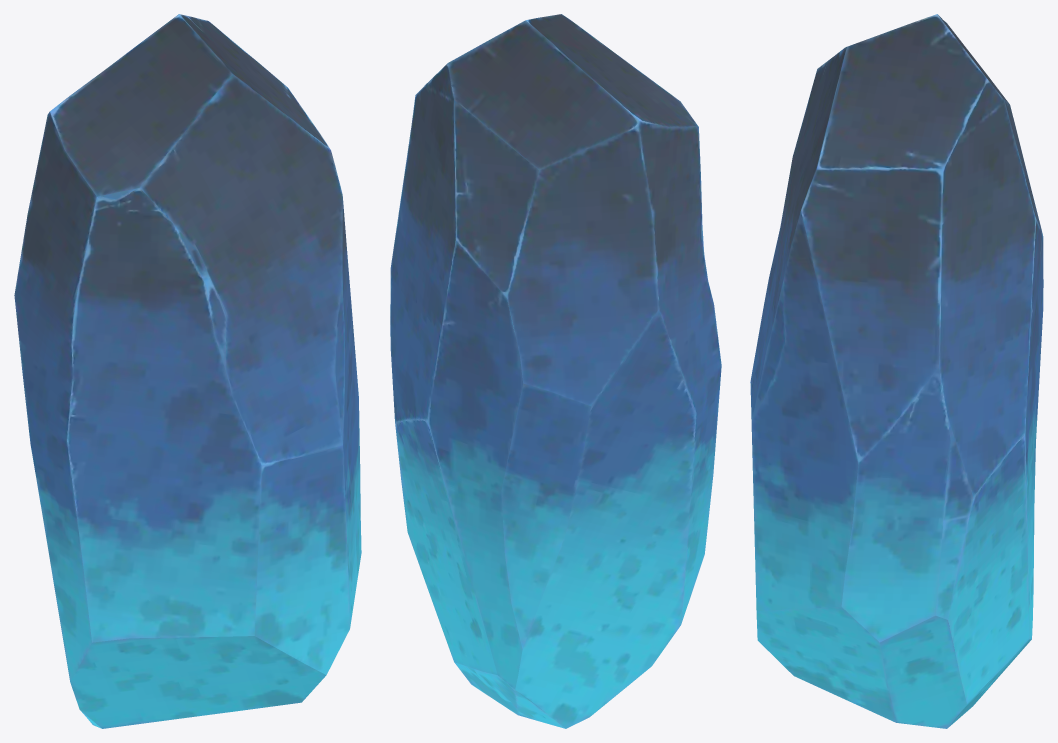
Rendered from stone.glb.
The picture shows the model from 3 angles, left to right: view 1: azimuth 30°, elevation 25°; view 2: azimuth 150°, elevation 25°; view 3: azimuth 270°, elevation 25°; orthographic projection. The views are drawn at different scales.
Visible parts, largest first — view 1: Crystal_low.002; view 2: Crystal_low.002; view 3: Crystal_low.002.
Boxes of the visible parts, left/top/right/bottom form: Crystal_low.002: left=14, top=14, right=361, bottom=728; Crystal_low.002: left=390, top=14, right=721, bottom=728; Crystal_low.002: left=750, top=14, right=1043, bottom=728.
Size of the model in its own units: 0.0563 by 0.1255 by 0.0478.
1 material, 1 textured.
